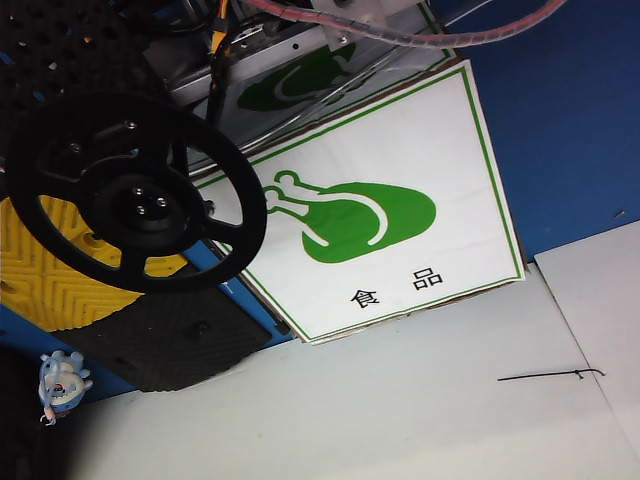Cube_food: (261, 162, 448, 316)
